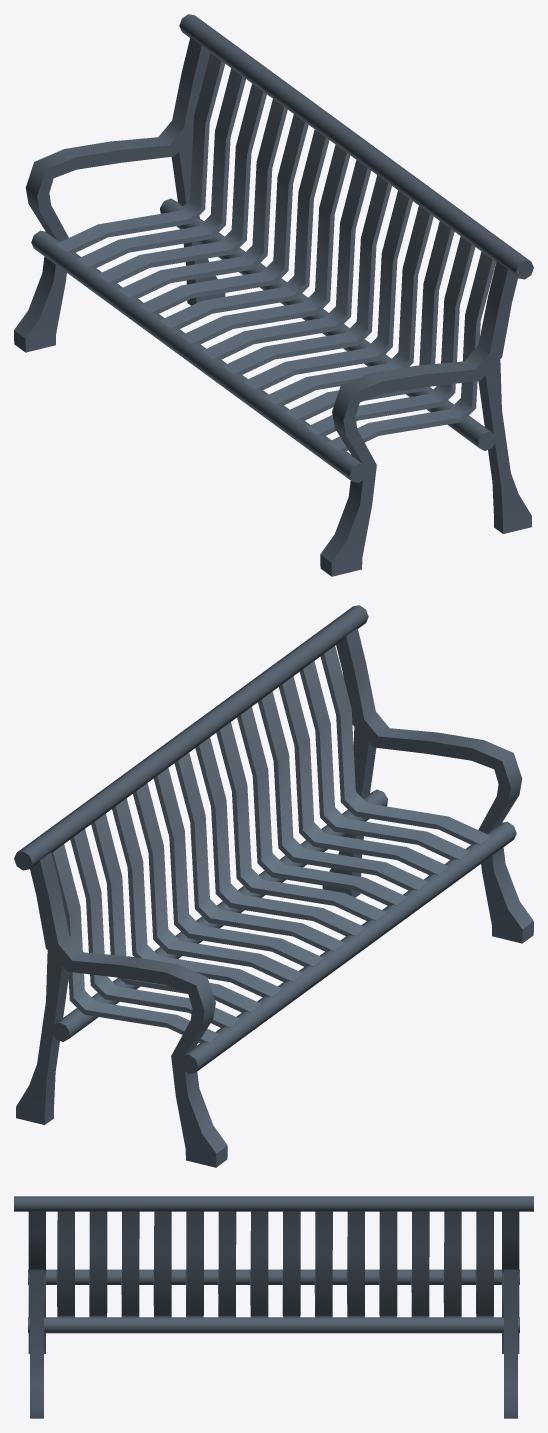
The model's file is Bench_1_B.fbx.
3 renders of one model, top to bottom at view 1: azimuth 30°, elevation 25°; view 2: azimuth 150°, elevation 25°; view 3: azimuth 270°, elevation 25°, orthographic. The views are drawn at different scales.
Parts seen in each view (by area): view 1: Bench_1_B; view 2: Bench_1_B; view 3: Bench_1_B.
Part boxes in pixels (x1,y1,x2,y2): Bench_1_B: (14, 14, 533, 576); Bench_1_B: (14, 605, 533, 1167); Bench_1_B: (14, 1196, 533, 1418).
Size of the model in its own units: 67.57 by 89.25 by 195.
